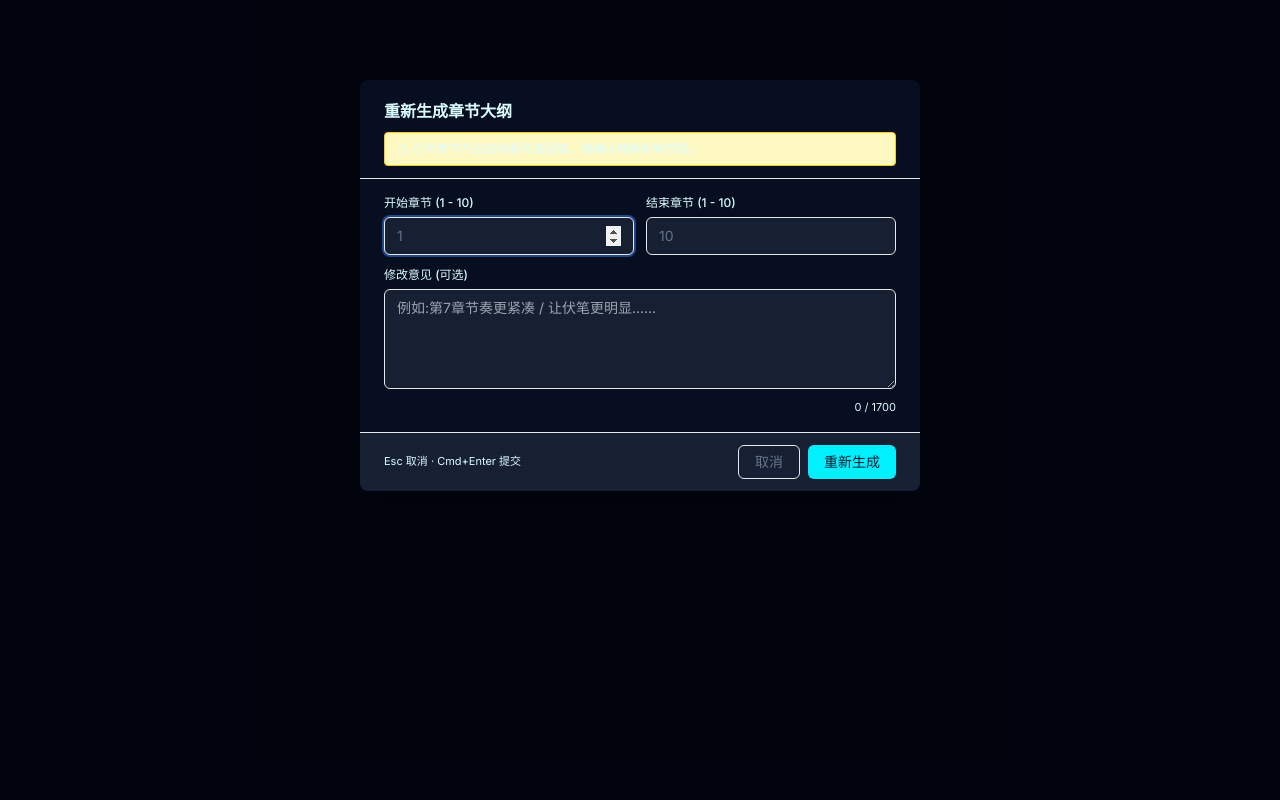
ChapterRangeRegenerateModal › out-of-range input disables confirm button
Replace the text in the number field with test id "chapter-range-start" with "0". click: (509, 236)
box: [384,217,634,255]
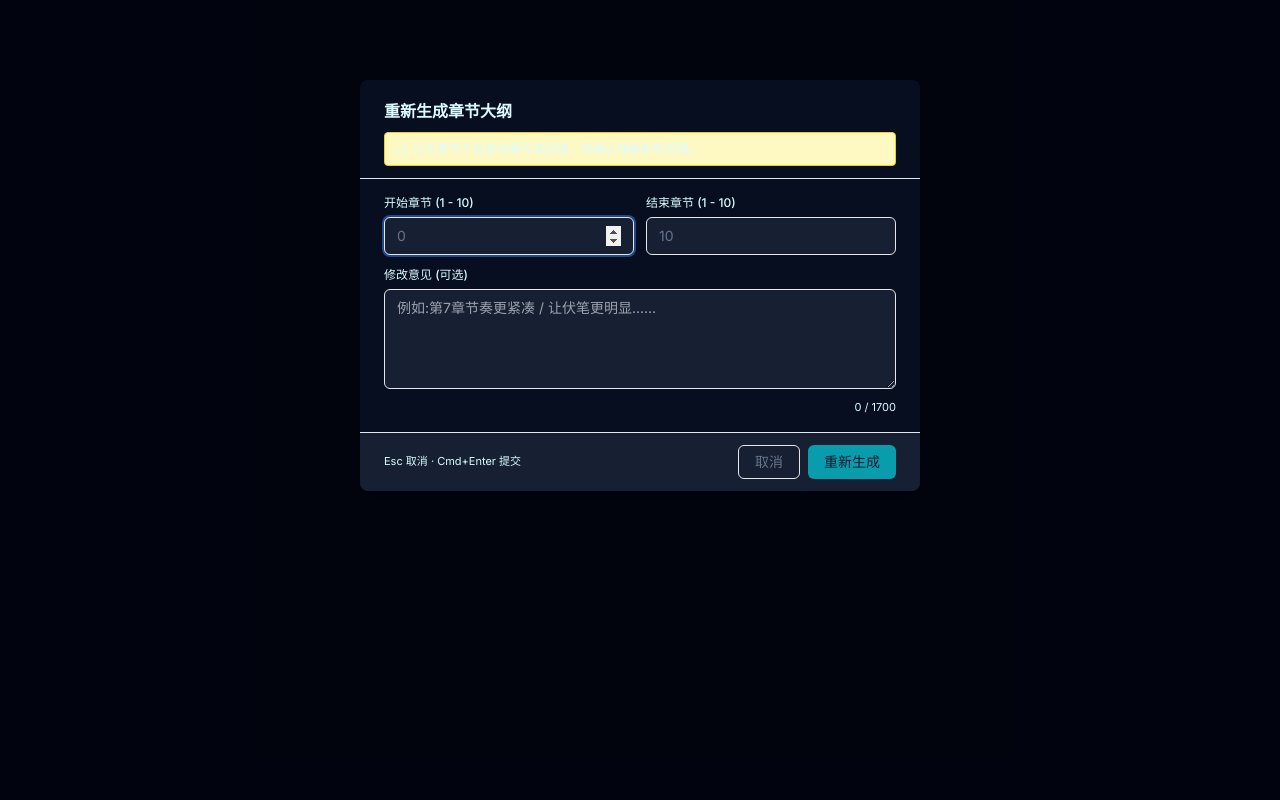
expect the button with test id "chapter-range-confirm" is disabled: met, box [808,444,896,478]
